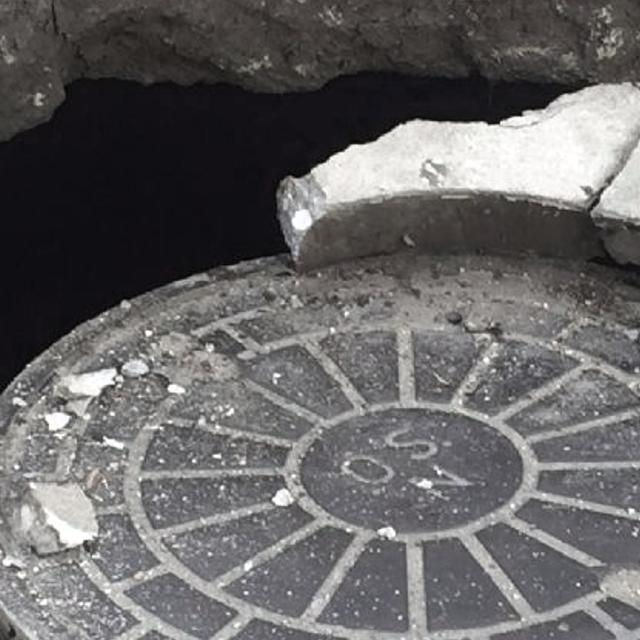circle: (0, 21, 640, 640)
